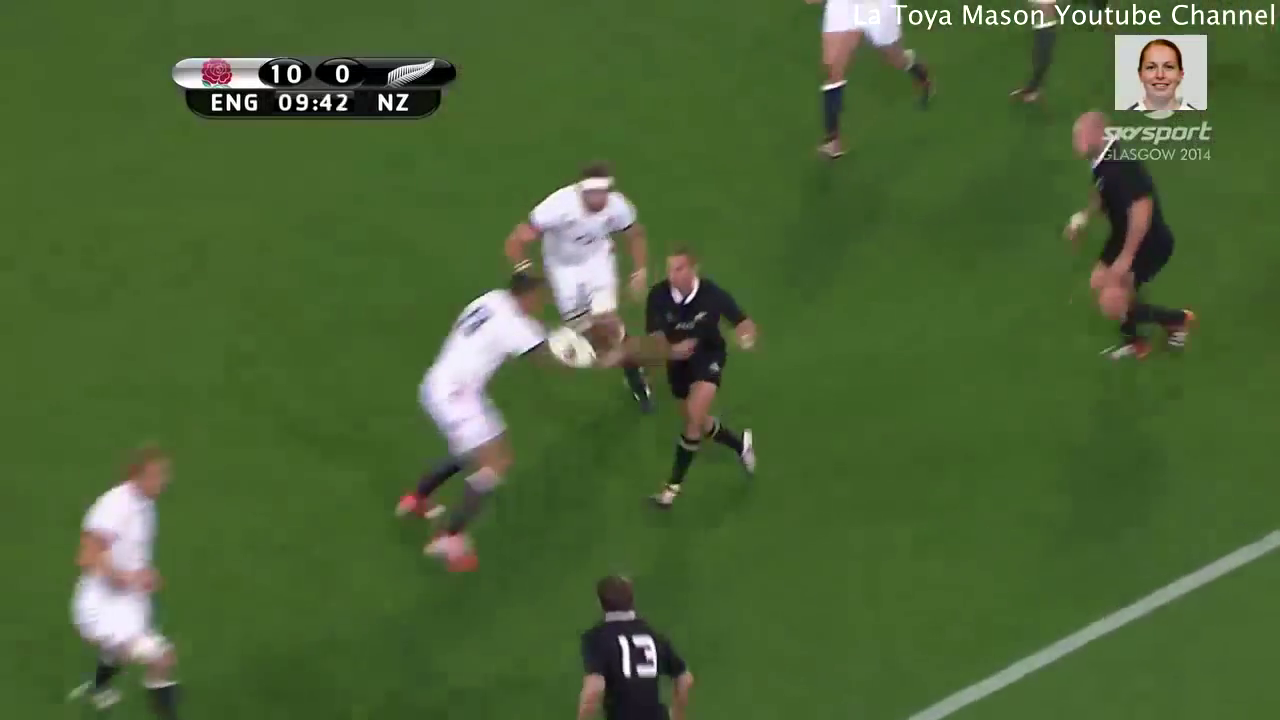ball: (527, 305, 612, 393)
player: (374, 258, 580, 592), (497, 144, 670, 436), (618, 231, 777, 516), (51, 434, 207, 720), (1045, 100, 1205, 374), (556, 564, 708, 720), (805, 1, 938, 172)
